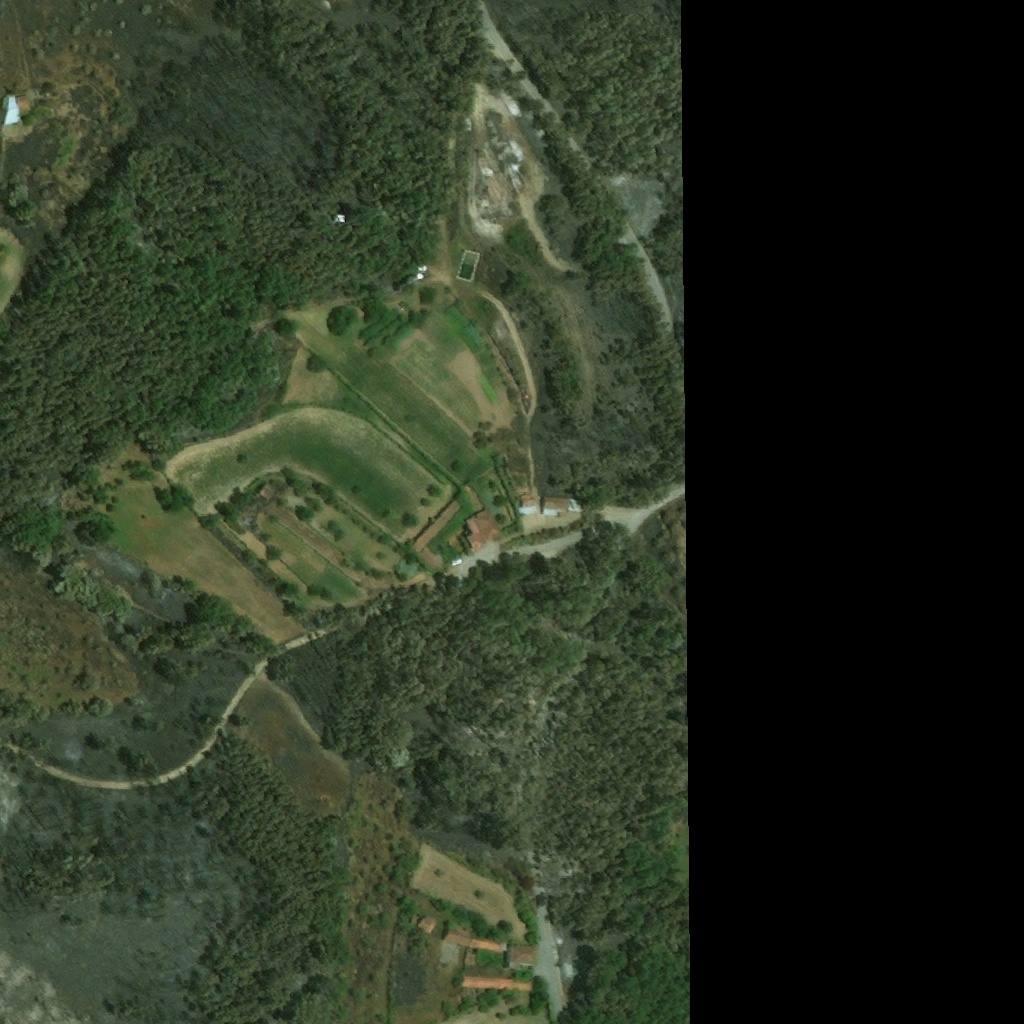0 no-damage: (404, 496, 464, 557), (466, 508, 500, 551), (459, 974, 530, 991), (4, 92, 30, 125), (443, 924, 471, 949), (506, 944, 535, 964), (541, 496, 569, 515), (417, 548, 441, 570), (470, 937, 503, 952), (416, 915, 438, 935), (516, 496, 537, 513), (568, 496, 580, 512), (334, 214, 346, 224), (466, 953, 475, 964), (416, 273, 425, 280), (419, 264, 428, 271)
